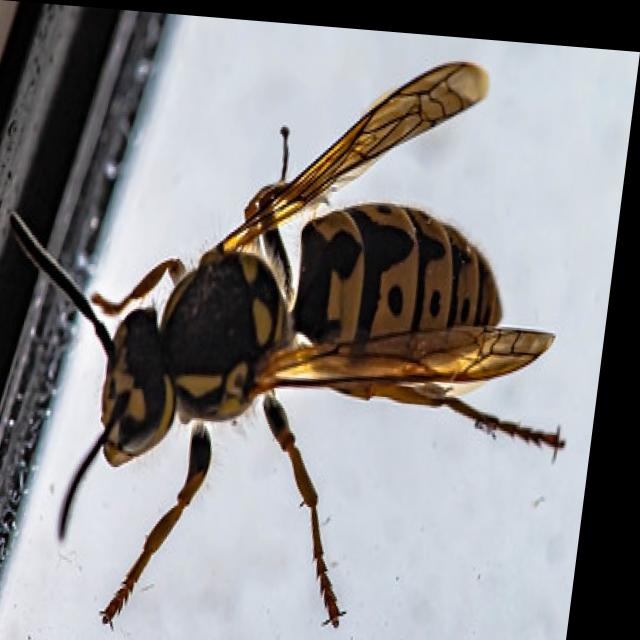Guepe: (0, 25, 636, 635)
